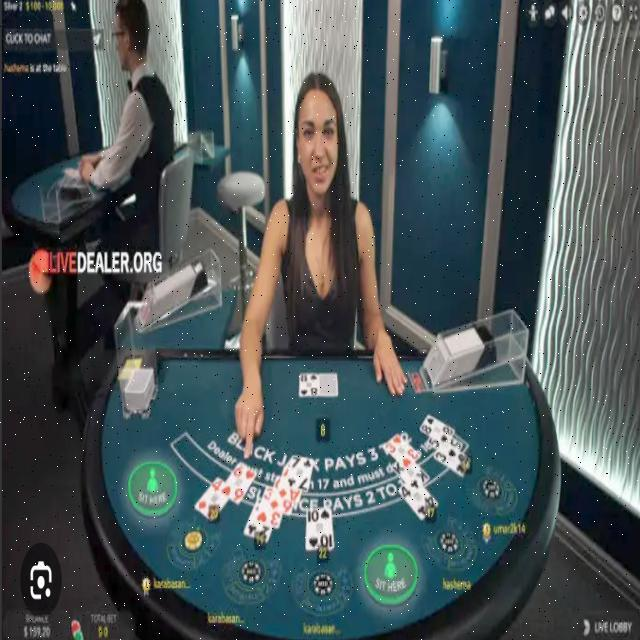Card-10: (306, 507, 334, 550)
Card-2: (244, 498, 273, 543)
Card-3: (383, 433, 420, 469), (256, 486, 283, 529), (434, 450, 471, 477)
Card-4: (398, 476, 439, 521), (194, 477, 228, 522)
Card-5: (427, 437, 463, 460)
Card-6: (219, 462, 257, 505), (269, 475, 293, 516)
Card-7: (286, 455, 314, 493)
Card-8: (420, 412, 455, 447), (299, 372, 318, 398)
Card-A: (278, 464, 302, 502)
Card-K: (391, 460, 430, 483)
